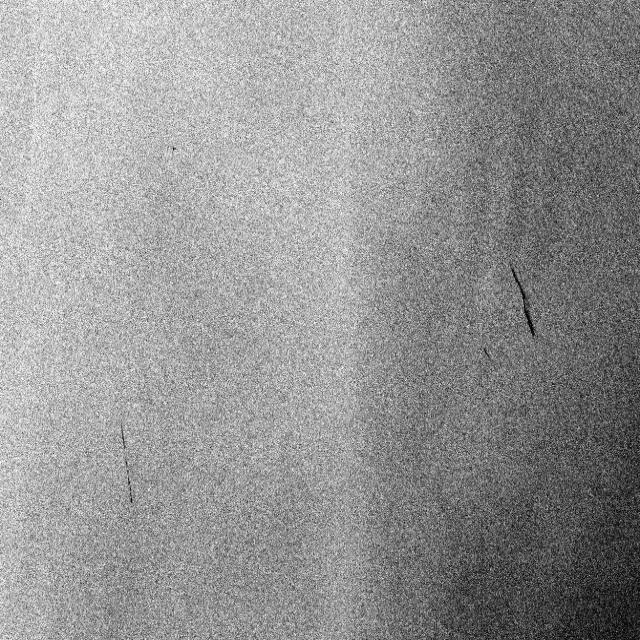oil-spill: (509, 264, 537, 337), (118, 424, 137, 507), (481, 344, 497, 376)
